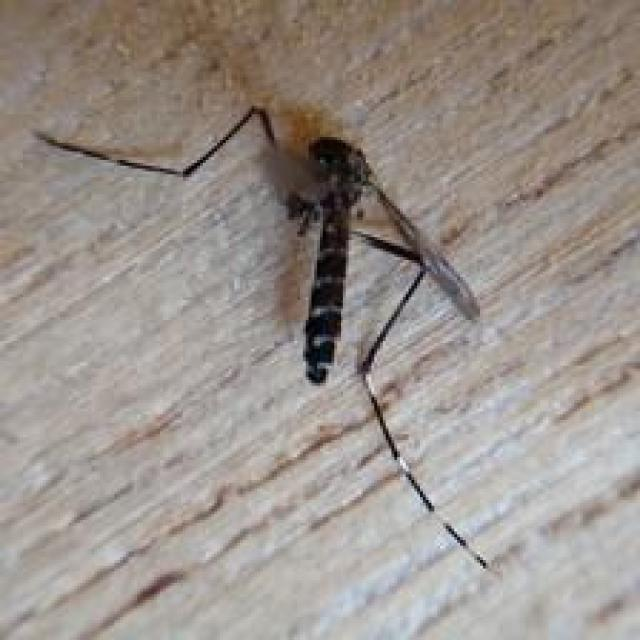Aedes albopictus: (30, 103, 493, 571)
